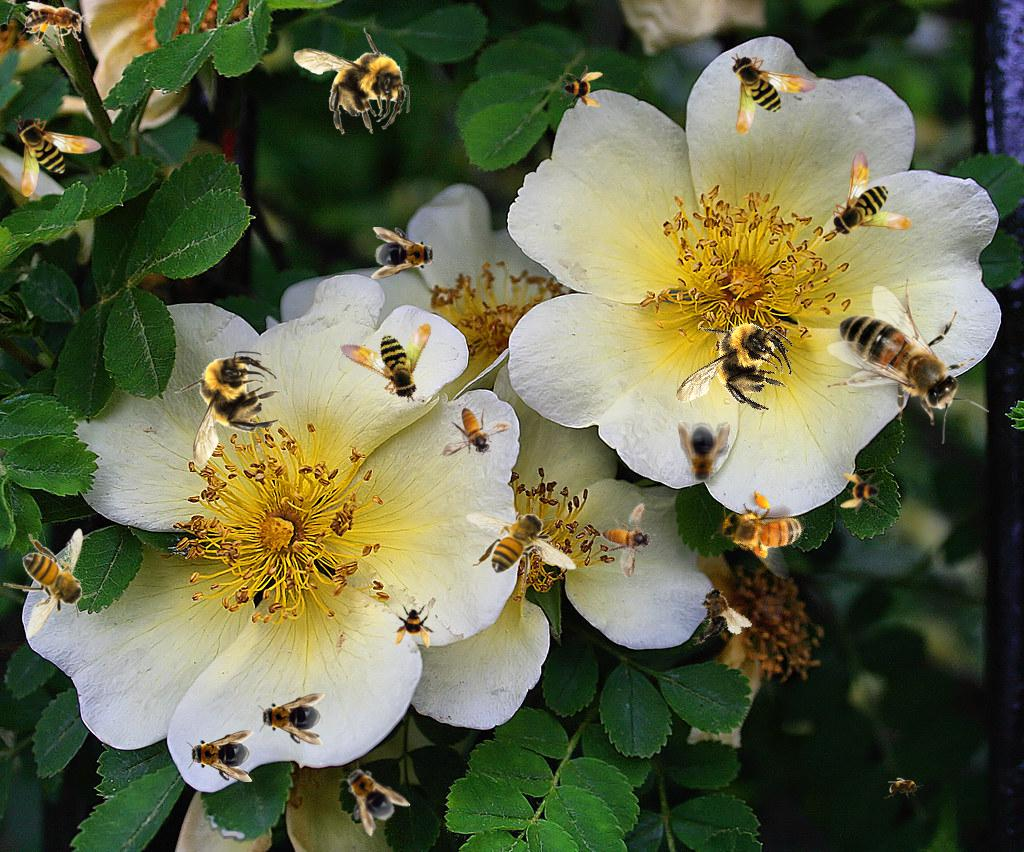Bee: (827, 277, 989, 444), (656, 292, 811, 449), (291, 25, 412, 138), (705, 477, 821, 586), (174, 351, 281, 466), (330, 298, 440, 406), (466, 499, 577, 593), (3, 528, 97, 639), (729, 53, 819, 137), (327, 753, 411, 839), (14, 115, 102, 197), (830, 149, 912, 237), (588, 493, 670, 580), (677, 578, 754, 650), (441, 407, 512, 457), (678, 420, 730, 488), (371, 227, 439, 279), (257, 693, 325, 745), (186, 730, 254, 782), (25, 1, 91, 46), (559, 65, 603, 109), (393, 604, 437, 648), (840, 471, 884, 515), (884, 777, 924, 799)
